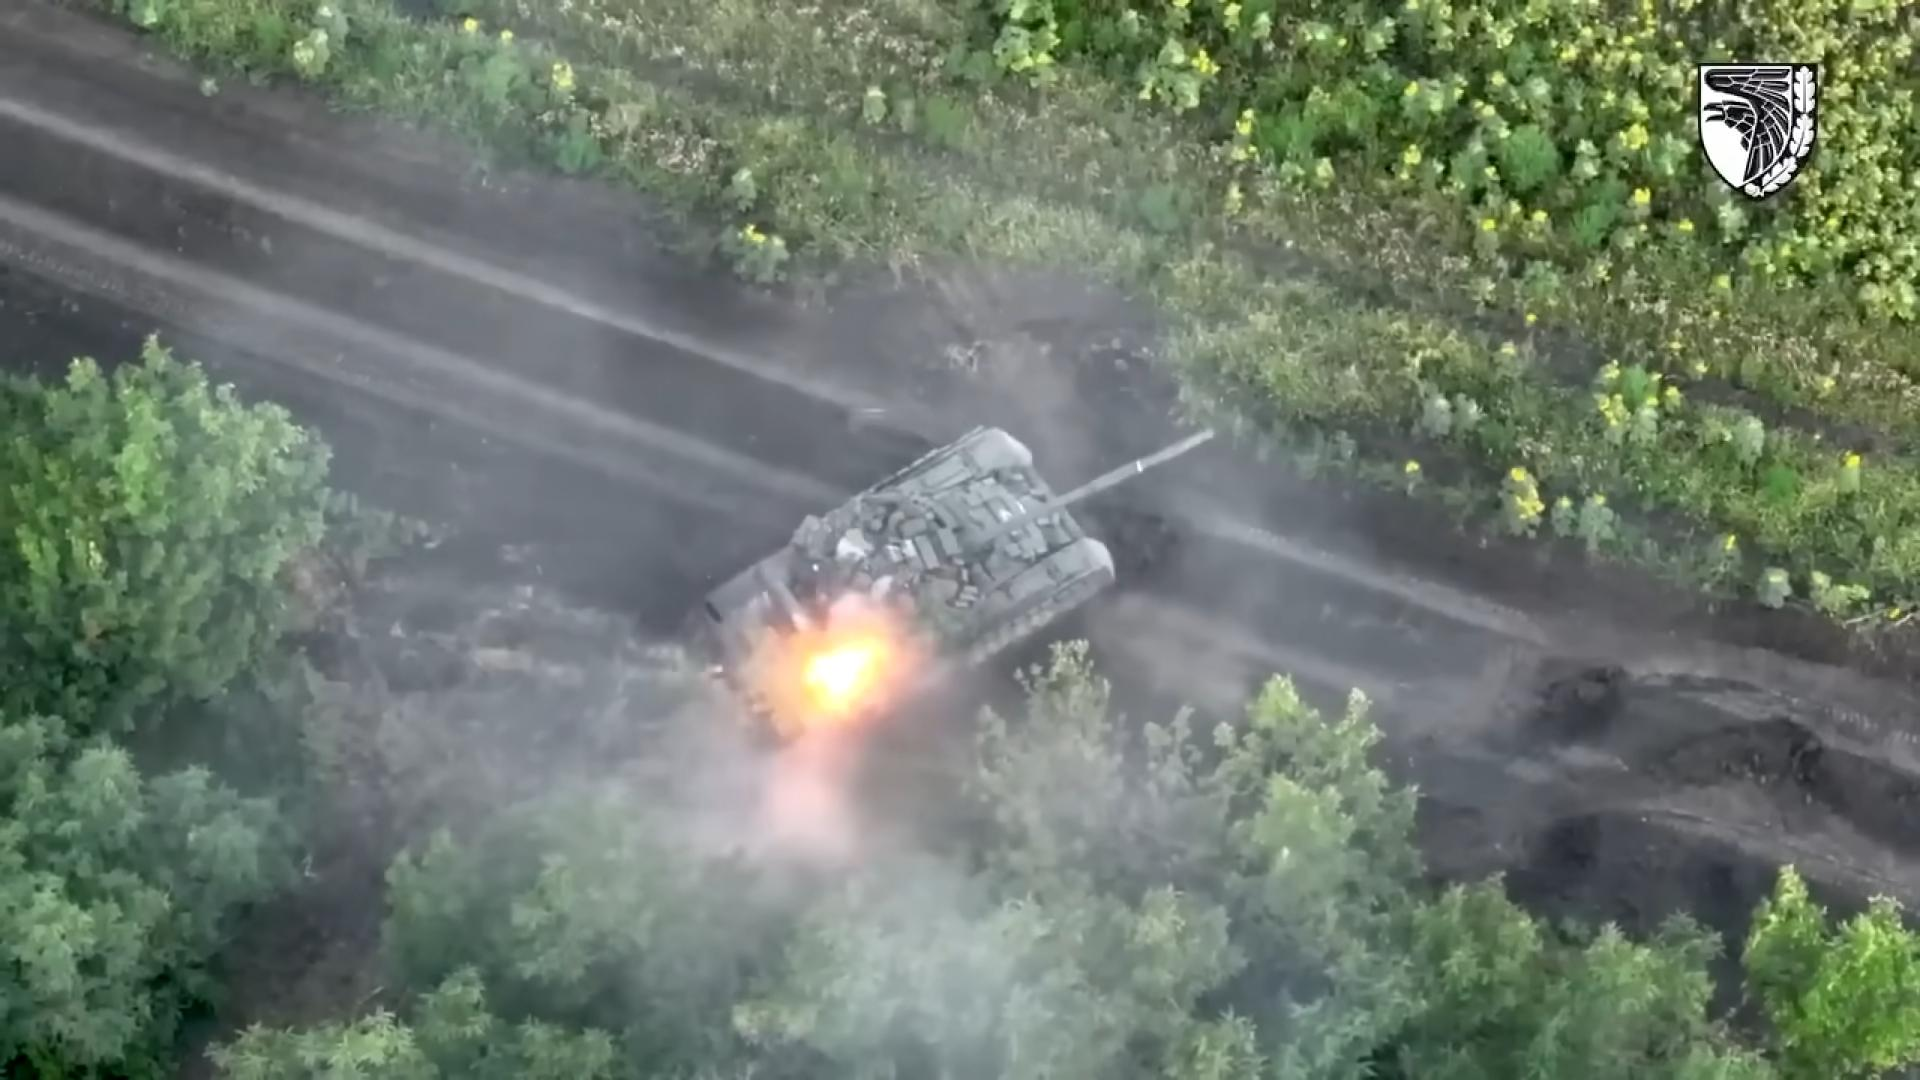tank: (688, 430, 1212, 733)
